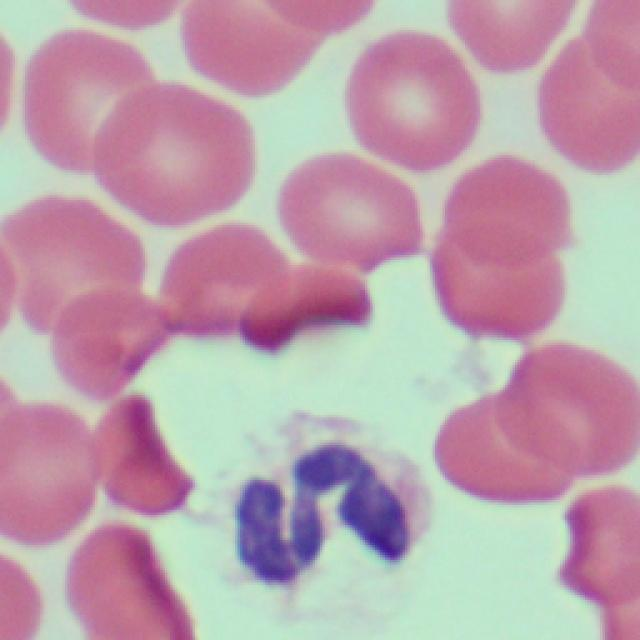RBC: (11, 187, 160, 404), (444, 328, 640, 489), (270, 148, 424, 331), (423, 152, 559, 344), (90, 78, 252, 222), (340, 25, 481, 181), (19, 20, 148, 182), (525, 29, 637, 172), (66, 514, 193, 638), (0, 384, 95, 545), (168, 0, 324, 94), (88, 386, 190, 512), (443, 0, 581, 73), (557, 487, 640, 592), (61, 0, 192, 34), (594, 559, 640, 640), (0, 545, 40, 637)
WBC: (198, 416, 422, 625)
